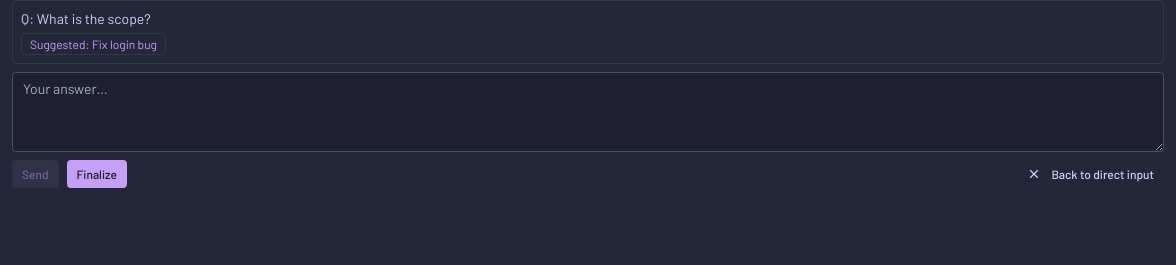
Test: ComposerAssistPanel › restores reply text and offers retry when send fails
Expected: the text "Q: What is the scope?" is shown, [21,10,151,27]
Step 1. Type "my answer" into the text box → point(588, 112), box [12,72,1164,152]
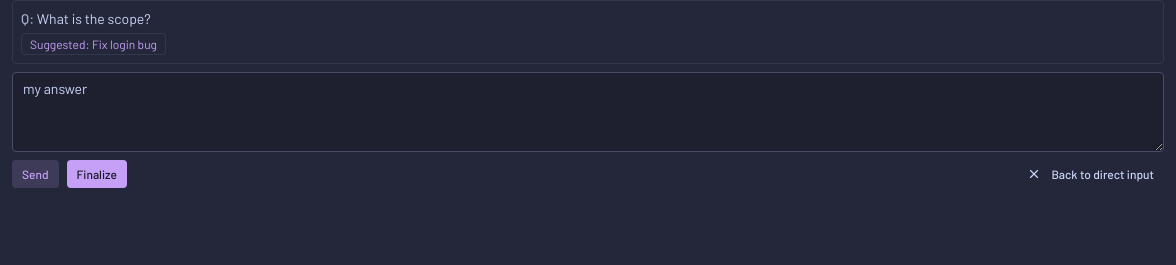
Step 2. Click the button "Send" → point(35, 174), box [12,160,59,188]
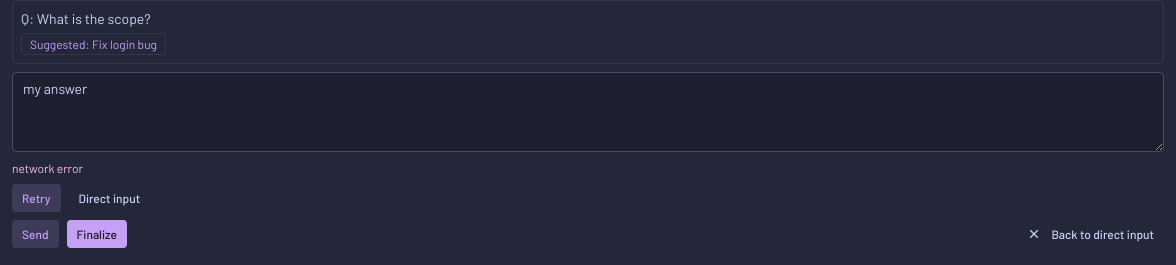
Result: the text "network error" is shown at [12,161,83,175]
Result: the button "Retry" is shown
Step 3. Click the button "Retry" → point(36, 198), box [12,184,60,212]
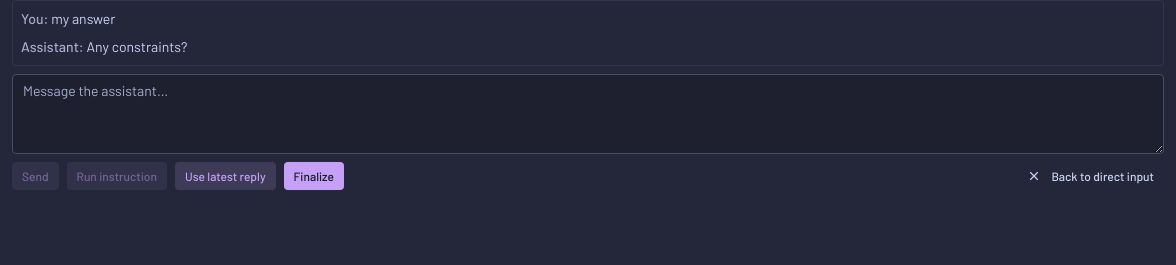
Result: the list item "my answer" is shown at [51,10,115,27]
Result: the list item "Assistant: Any constraints?" is shown at [21,38,188,55]
